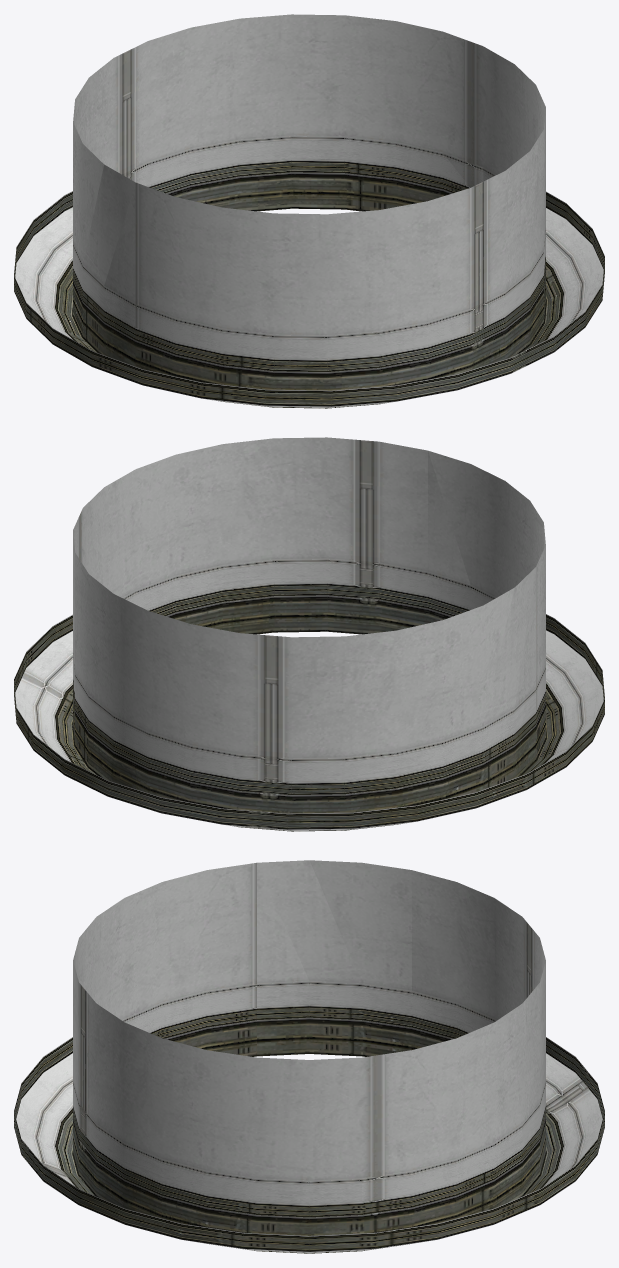
The model's file is Range_sky_portal.FBX.
The picture shows the model from 3 angles, top to bottom: view 1: azimuth 30°, elevation 25°; view 2: azimuth 150°, elevation 25°; view 3: azimuth 270°, elevation 25°; orthographic projection.
Visible parts, largest first — view 1: Range_sky_portal; view 2: Range_sky_portal; view 3: Range_sky_portal.
Part boxes in pixels (box(x1,y1,x2,y2)): Range_sky_portal: box(14, 14, 604, 408); Range_sky_portal: box(14, 437, 604, 831); Range_sky_portal: box(14, 860, 604, 1253).
Size of the model in its own units: 4.27 by 1.54 by 4.27.
